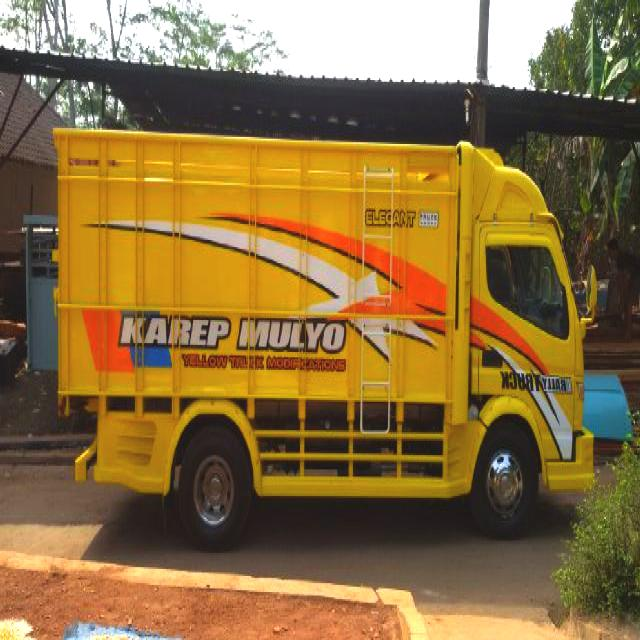truck: (54, 120, 605, 543)
